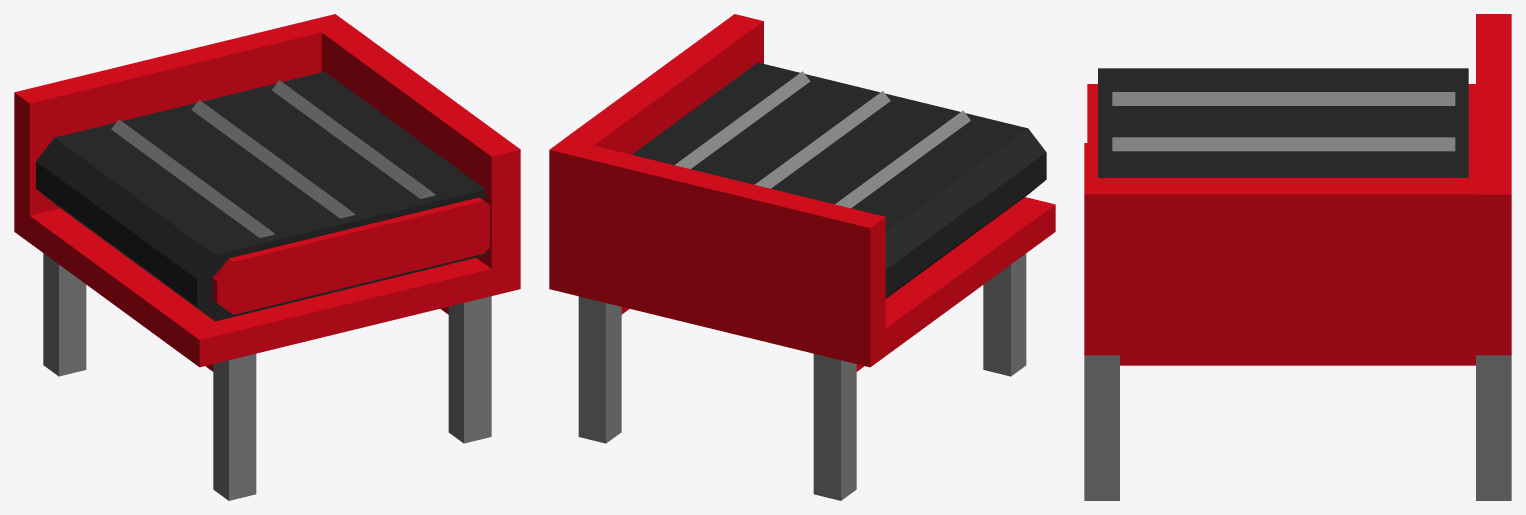
File: TapisRAngle.fbx
3 renders of one model, left to right at view 1: azimuth 30°, elevation 25°; view 2: azimuth 150°, elevation 25°; view 3: azimuth 270°, elevation 25°, orthographic. The views are drawn at different scales.
Parts seen in each view (by area): view 1: Cube.008; view 2: Cube.008; view 3: Cube.008.
Part boxes in pixels (<box>): Cube.008: <box>14,14,520,500</box>; Cube.008: <box>549,14,1055,500</box>; Cube.008: <box>1084,14,1511,500</box>.
Bounding box in the file's own units: 200 × 167 × 200.
